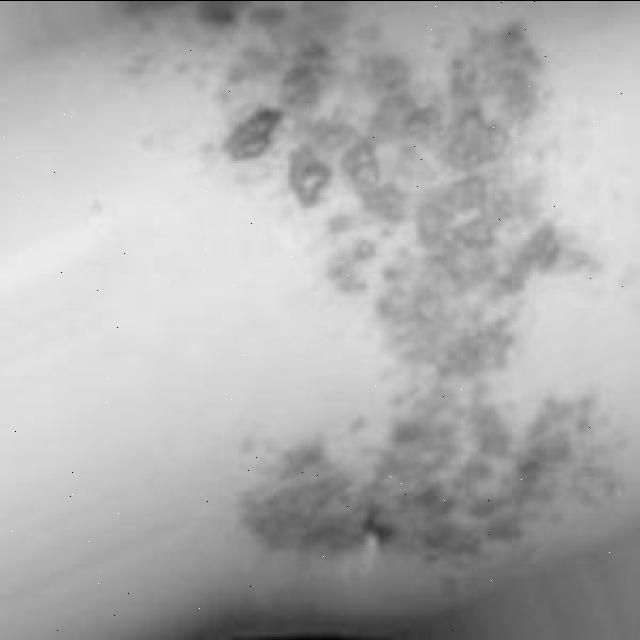Shingles: (201, 0, 603, 559)
